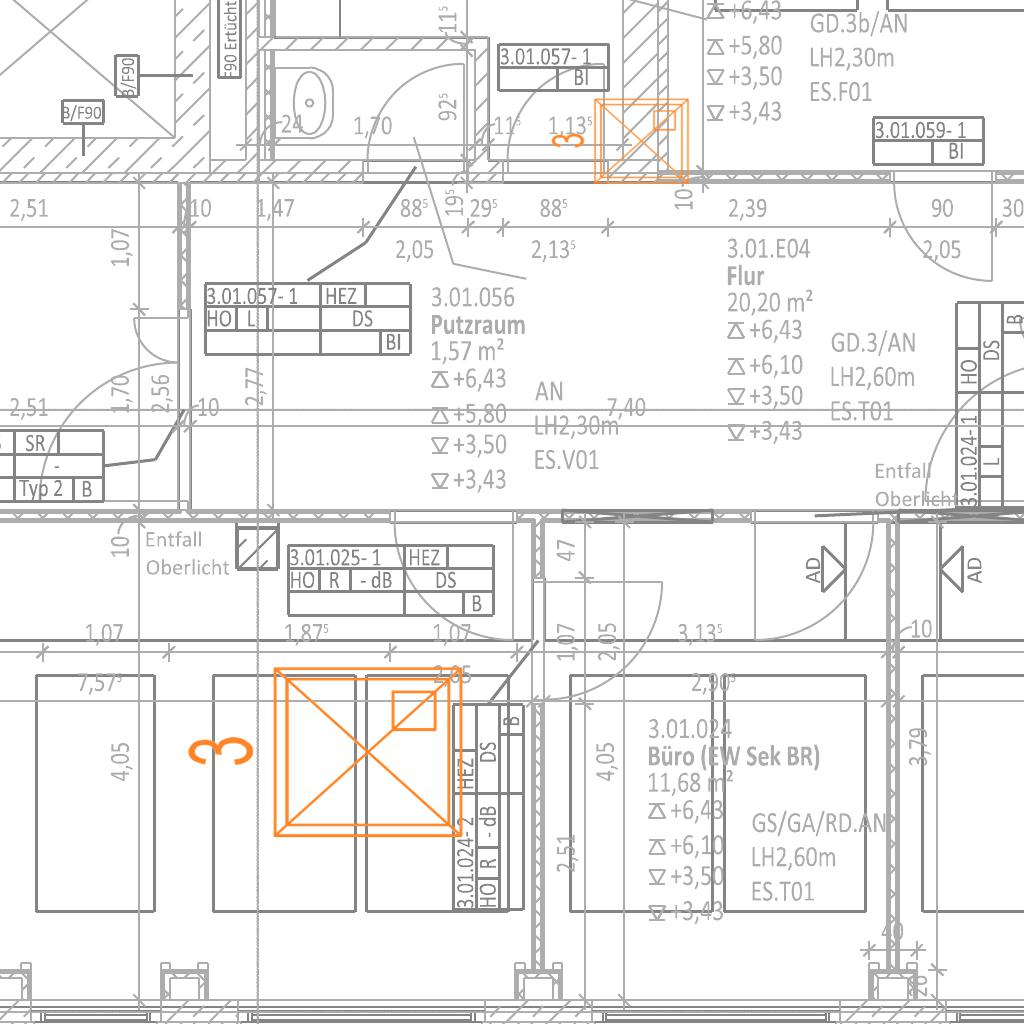Einbaudownlights_LED_Konferenzraeume: (177, 652, 477, 860), (546, 91, 696, 195)
